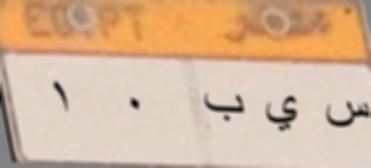0: (123, 89, 147, 120)
1: (48, 76, 76, 121)
baa: (202, 88, 246, 126)
seen: (322, 95, 371, 132)
yaa: (261, 91, 302, 139)
